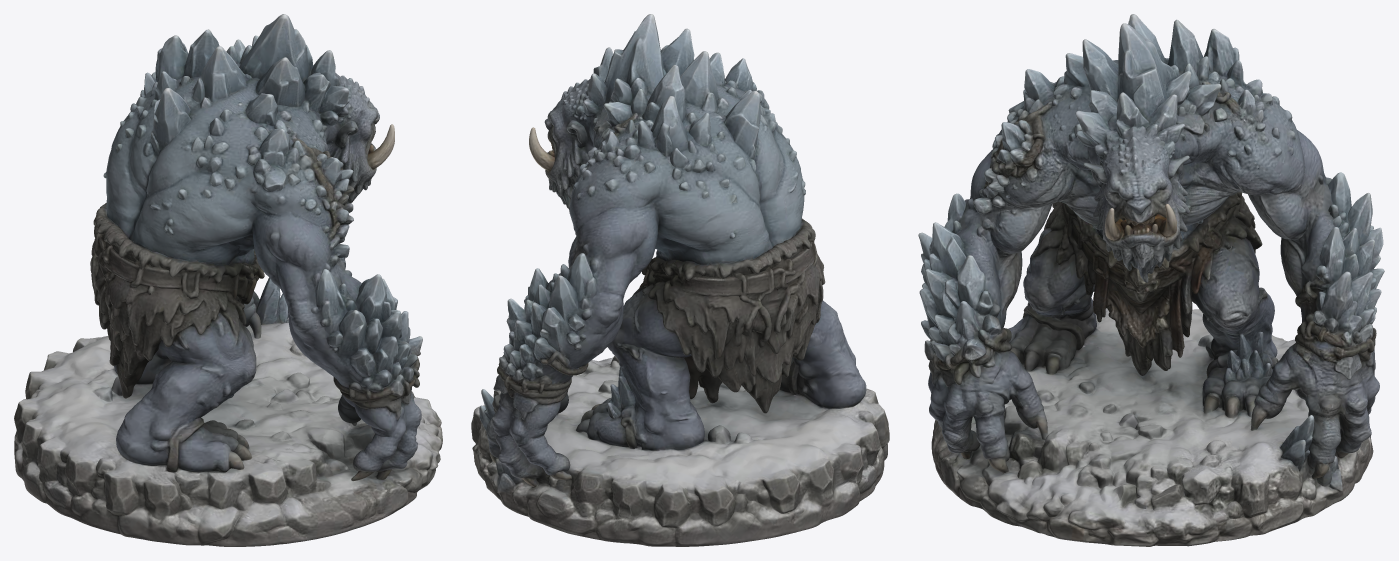
The model's file is compress_gl3gmromok42namx.glb.
The picture shows the model from 3 angles, left to right: view 1: azimuth 30°, elevation 25°; view 2: azimuth 150°, elevation 25°; view 3: azimuth 270°, elevation 25°; orthographic projection. The views are drawn at different scales.
Parts seen in each view (by area): view 1: tripo_node_57d46896-bacd-44ae-a058-1298ff40c48d; view 2: tripo_node_57d46896-bacd-44ae-a058-1298ff40c48d; view 3: tripo_node_57d46896-bacd-44ae-a058-1298ff40c48d.
Boxes of the visible parts, <box> form: tripo_node_57d46896-bacd-44ae-a058-1298ff40c48d: <box>14,14,442,546</box>; tripo_node_57d46896-bacd-44ae-a058-1298ff40c48d: <box>471,14,889,546</box>; tripo_node_57d46896-bacd-44ae-a058-1298ff40c48d: <box>918,14,1384,546</box>.
Size of the model in its own units: 0.8935 by 1 by 0.9306.
1 material, 1 textured.
